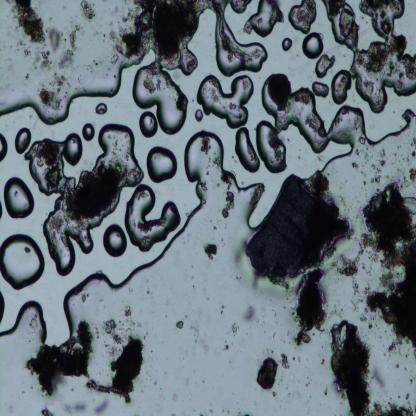Air bubble: (322, 0, 416, 110), (180, 129, 270, 226), (280, 87, 369, 156), (40, 196, 102, 275), (210, 0, 272, 73), (134, 59, 189, 136), (126, 184, 181, 252), (194, 70, 254, 128), (96, 121, 144, 187), (0, 231, 46, 290), (27, 139, 76, 193), (256, 120, 288, 175), (2, 176, 36, 221), (146, 145, 180, 188), (232, 123, 260, 174), (245, 0, 283, 37), (102, 223, 127, 260), (288, 0, 316, 33), (300, 32, 327, 60), (330, 70, 352, 102), (312, 53, 337, 78), (64, 132, 84, 163), (140, 110, 160, 140), (14, 127, 32, 154), (310, 80, 330, 98), (0, 132, 10, 162), (0, 288, 8, 324), (81, 124, 95, 144), (281, 36, 293, 52), (95, 102, 107, 116), (194, 110, 204, 122), (0, 200, 3, 222)
Background material: (348, 181, 416, 270), (119, 0, 202, 60), (26, 320, 93, 392), (328, 319, 375, 416), (362, 268, 416, 352), (87, 336, 142, 401), (63, 163, 123, 220), (290, 261, 328, 347), (359, 105, 416, 150), (14, 0, 46, 46), (358, 42, 397, 74), (268, 70, 294, 110), (58, 27, 82, 70), (330, 249, 364, 274), (255, 356, 278, 390), (370, 401, 415, 416), (34, 87, 61, 111), (348, 279, 364, 312), (340, 11, 357, 41), (220, 190, 238, 218), (106, 318, 124, 345), (61, 398, 89, 414), (48, 68, 68, 90), (369, 1, 399, 15), (201, 242, 220, 261), (49, 27, 64, 51), (38, 48, 53, 72), (92, 395, 110, 415), (395, 169, 416, 186), (399, 61, 416, 79), (386, 339, 402, 357), (82, 1, 94, 24), (234, 244, 246, 266), (328, 303, 344, 318), (241, 306, 256, 321), (39, 404, 55, 416), (295, 90, 310, 102), (188, 323, 198, 341), (200, 137, 209, 156), (220, 172, 232, 186), (280, 354, 291, 368), (146, 78, 156, 93), (197, 179, 207, 193), (370, 173, 381, 185), (338, 196, 348, 208), (357, 136, 366, 148), (371, 164, 382, 173), (316, 154, 326, 163), (406, 391, 412, 405), (232, 322, 239, 334), (125, 305, 131, 318), (350, 162, 358, 171), (176, 318, 184, 327), (409, 136, 416, 146), (378, 149, 386, 157), (80, 295, 88, 303), (235, 276, 243, 284), (266, 348, 274, 355), (235, 408, 242, 416), (396, 168, 405, 174), (291, 306, 296, 316), (409, 150, 416, 157), (278, 377, 284, 385), (112, 58, 118, 66), (408, 376, 414, 384), (305, 379, 311, 386), (130, 320, 136, 327), (380, 160, 386, 167), (320, 357, 325, 365), (208, 408, 214, 414), (214, 158, 218, 167), (244, 411, 251, 416), (274, 308, 278, 316), (128, 286, 132, 293), (406, 155, 410, 162), (360, 148, 365, 153), (223, 346, 228, 351), (216, 221, 221, 226), (364, 152, 368, 158), (198, 412, 204, 416), (272, 332, 276, 338), (386, 176, 391, 180), (292, 356, 297, 360), (272, 392, 276, 397), (137, 323, 141, 328), (395, 363, 399, 368), (356, 151, 360, 156), (146, 289, 150, 294), (220, 237, 224, 242), (325, 386, 327, 395), (283, 304, 286, 310), (326, 172, 330, 176), (308, 394, 312, 398), (298, 358, 302, 362), (220, 310, 223, 315), (340, 183, 342, 190), (363, 174, 366, 178), (222, 408, 225, 412), (213, 227, 217, 230), (364, 180, 366, 186), (228, 410, 231, 414), (398, 145, 402, 148), (393, 153, 396, 156), (286, 386, 288, 390), (154, 381, 156, 385), (288, 392, 290, 396), (345, 180, 348, 182), (366, 148, 368, 151), (402, 158, 405, 160), (185, 315, 187, 318), (210, 220, 212, 223), (361, 170, 363, 173), (222, 306, 224, 309), (225, 339, 226, 344), (368, 160, 370, 162), (399, 160, 401, 162), (365, 162, 367, 164), (392, 163, 394, 165), (151, 350, 153, 352), (376, 190, 380, 191), (202, 381, 204, 383), (254, 404, 257, 405)
Fragment: (246, 170, 342, 284)
